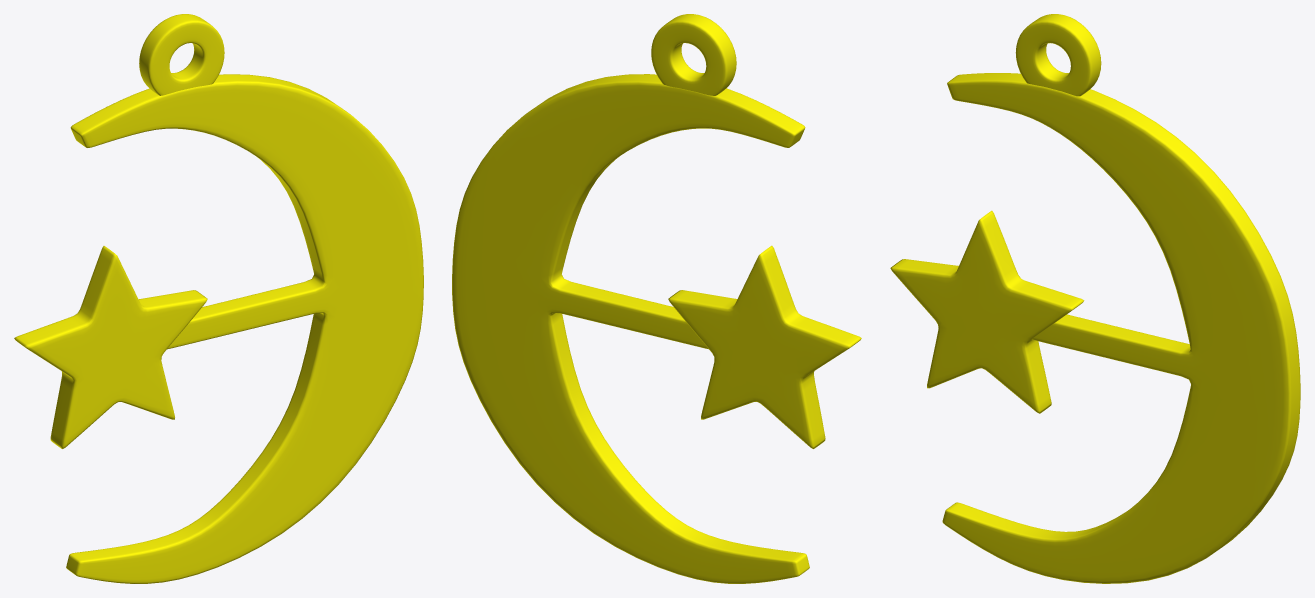
Rendered from 伊斯兰教.gltf.
The picture shows the model from 3 angles, left to right: view 1: azimuth 30°, elevation 25°; view 2: azimuth 150°, elevation 25°; view 3: azimuth 330°, elevation 25°; orthographic projection.
Visible parts, largest first — view 1: node_18367_Islam___Crescent_Moon_v1_-5272; view 2: node_18367_Islam___Crescent_Moon_v1_-5272; view 3: node_18367_Islam___Crescent_Moon_v1_-5272.
Boxes of the visible parts, x1,y1,x2,y2 form: node_18367_Islam___Crescent_Moon_v1_-5272: [14, 14, 423, 583]; node_18367_Islam___Crescent_Moon_v1_-5272: [452, 14, 861, 583]; node_18367_Islam___Crescent_Moon_v1_-5272: [890, 14, 1300, 583].
Bounding box in the file's own units: 4.23 × 5.62 × 0.2527.
